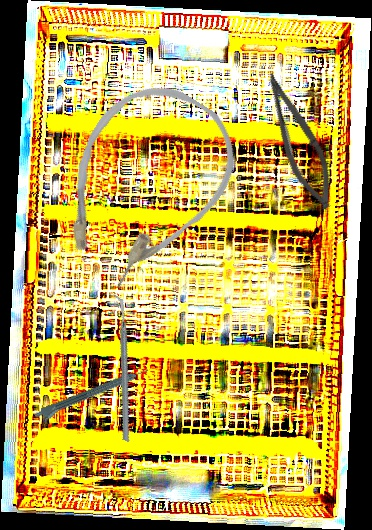Cannula: (29, 62, 257, 309)
Chopper: (64, 294, 179, 443)
Handpiece: (33, 365, 153, 425)
Micro Scissor: (248, 67, 348, 215)
